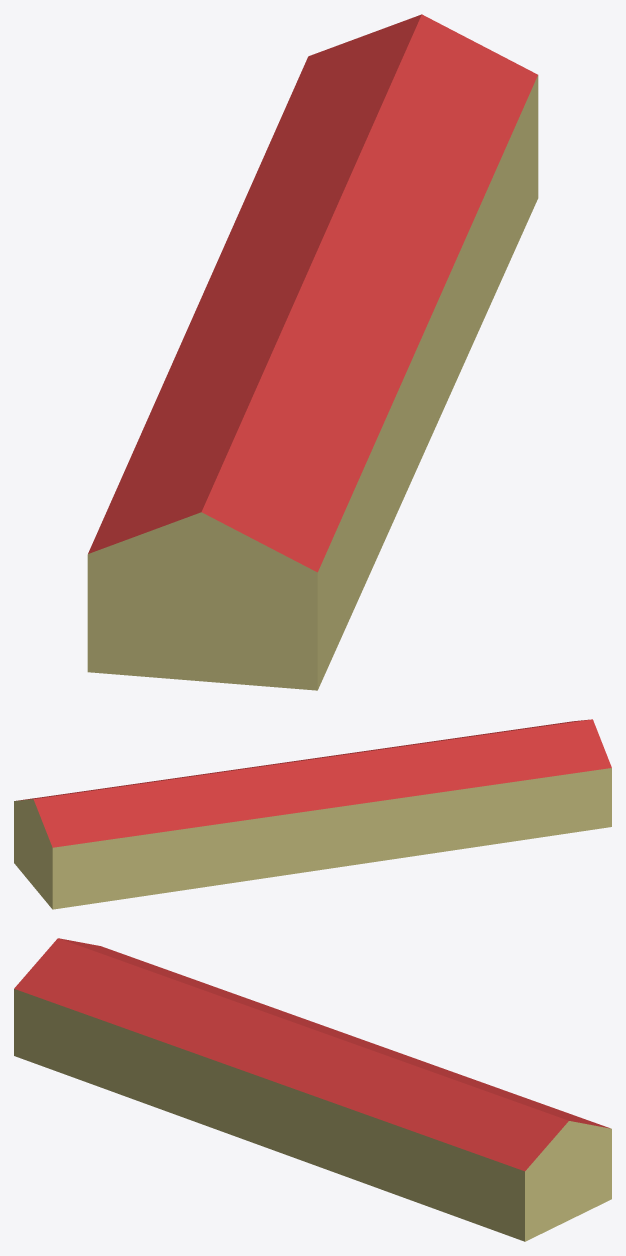
The picture shows the model from 3 angles, top to bottom: view 1: azimuth 30°, elevation 25°; view 2: azimuth 150°, elevation 25°; view 3: azimuth 270°, elevation 25°; orthographic projection. The views are drawn at different scales.
Size of the model in its own units: 32.11 by 35.5 by 6.52.
